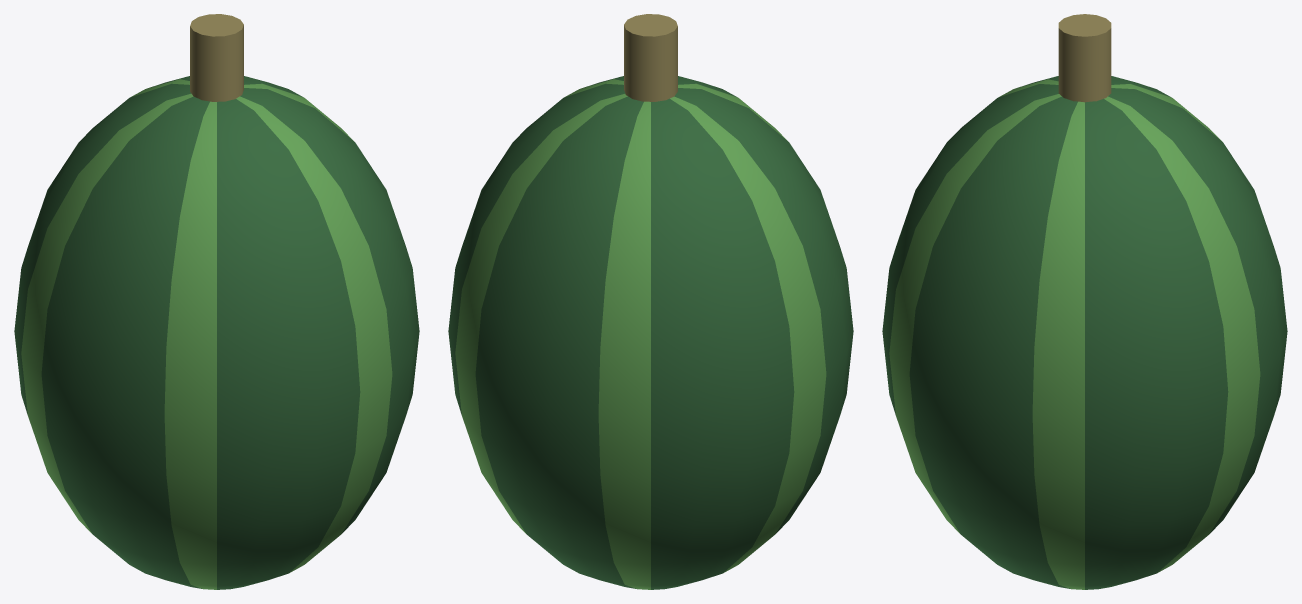
Rendered from melon.glb.
3 views of the same model, side by side, from view 1: azimuth 30°, elevation 25°; view 2: azimuth 150°, elevation 25°; view 3: azimuth 270°, elevation 25° (orthographic).
Parts seen in each view (by area): view 1: Melon; view 2: Melon; view 3: Melon.
Part boxes in pixels (x1,y1,x2,y2): Melon: (14,14,419,589); Melon: (448,14,853,589); Melon: (882,14,1287,589).
Bounding box in the file's own units: 0.18 × 0.27 × 0.18.
